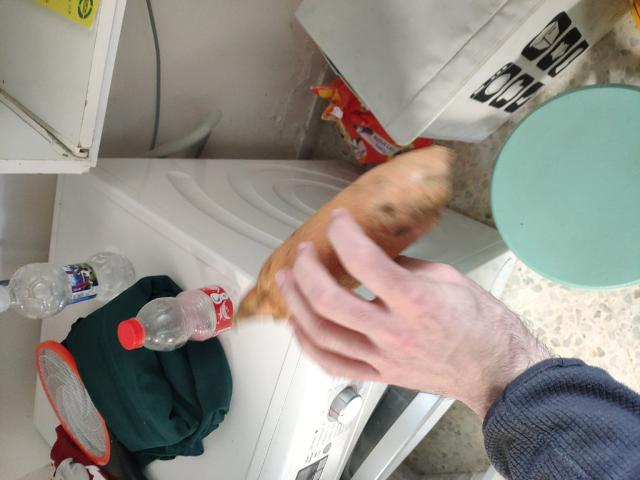sweet_potato: (244, 153, 424, 369)
